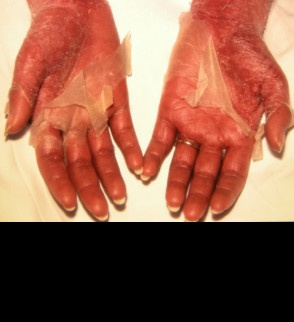SJS-TEN: (0, 0, 146, 180), (151, 0, 294, 168)
